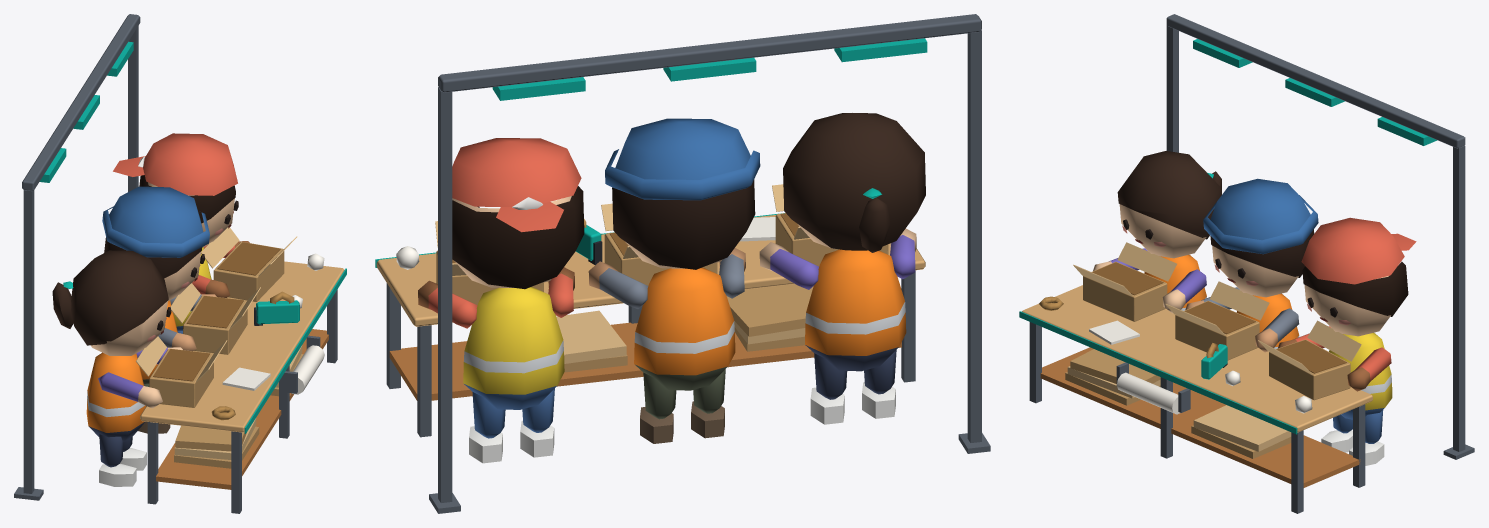
The model's file is station_processing_1.glb.
The picture shows the model from 3 angles, left to right: view 1: azimuth 30°, elevation 25°; view 2: azimuth 150°, elevation 25°; view 3: azimuth 270°, elevation 25°; orthographic projection. The views are drawn at different scales.
Parts seen in each view (by area): view 1: station_processing_1; view 2: station_processing_1; view 3: station_processing_1.
Part boxes in pixels (x1,y1,x2,y2): station_processing_1: [14, 14, 346, 513]; station_processing_1: [375, 14, 990, 513]; station_processing_1: [1019, 14, 1474, 513].
Size of the model in its own units: 2.09 by 1.61 by 2.09.
